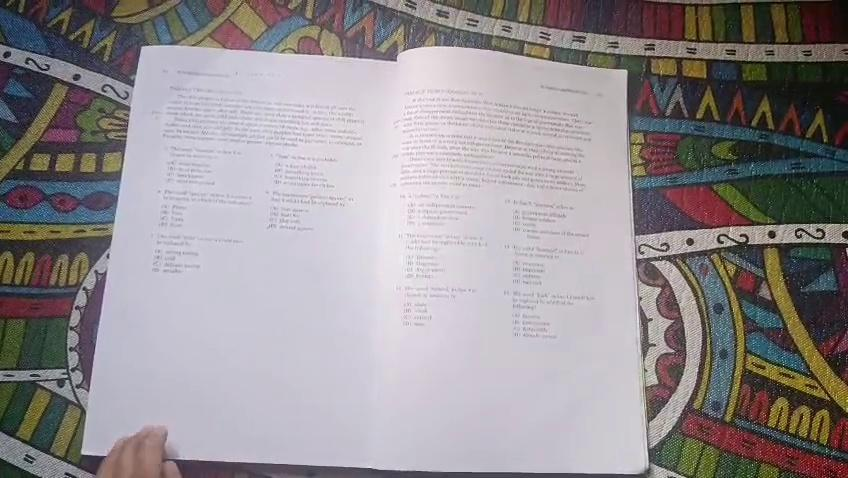Kertas: (170, 63, 437, 454), (387, 69, 626, 474)
